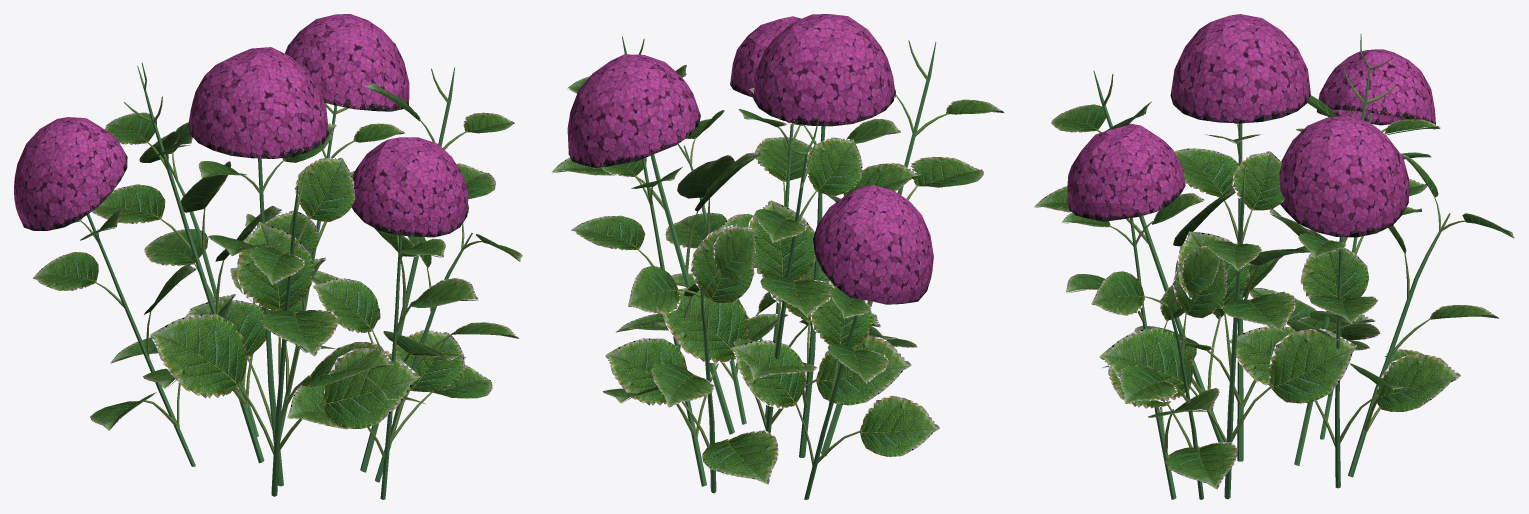
Rendered from sh-scopia-hydrangea.glb.
The picture shows the model from 3 angles, left to right: view 1: azimuth 30°, elevation 25°; view 2: azimuth 150°, elevation 25°; view 3: azimuth 270°, elevation 25°; orthographic projection. The views are drawn at different scales.
Parts seen in each view (by area): view 1: Trunk, Hydrangea1; view 2: Trunk, Hydrangea1; view 3: Trunk, Hydrangea1.
Part boxes in pixels (<box>): Trunk: <box>32,62,522,499</box>; Hydrangea1: <box>14,14,468,237</box>; Trunk: <box>551,36,1004,499</box>; Hydrangea1: <box>567,14,933,304</box>; Trunk: <box>1034,34,1514,499</box>; Hydrangea1: <box>1067,14,1435,237</box>.
Bounding box in the file's own units: 1 × 1 × 1.
Materials: 4 (2 with a texture image).
